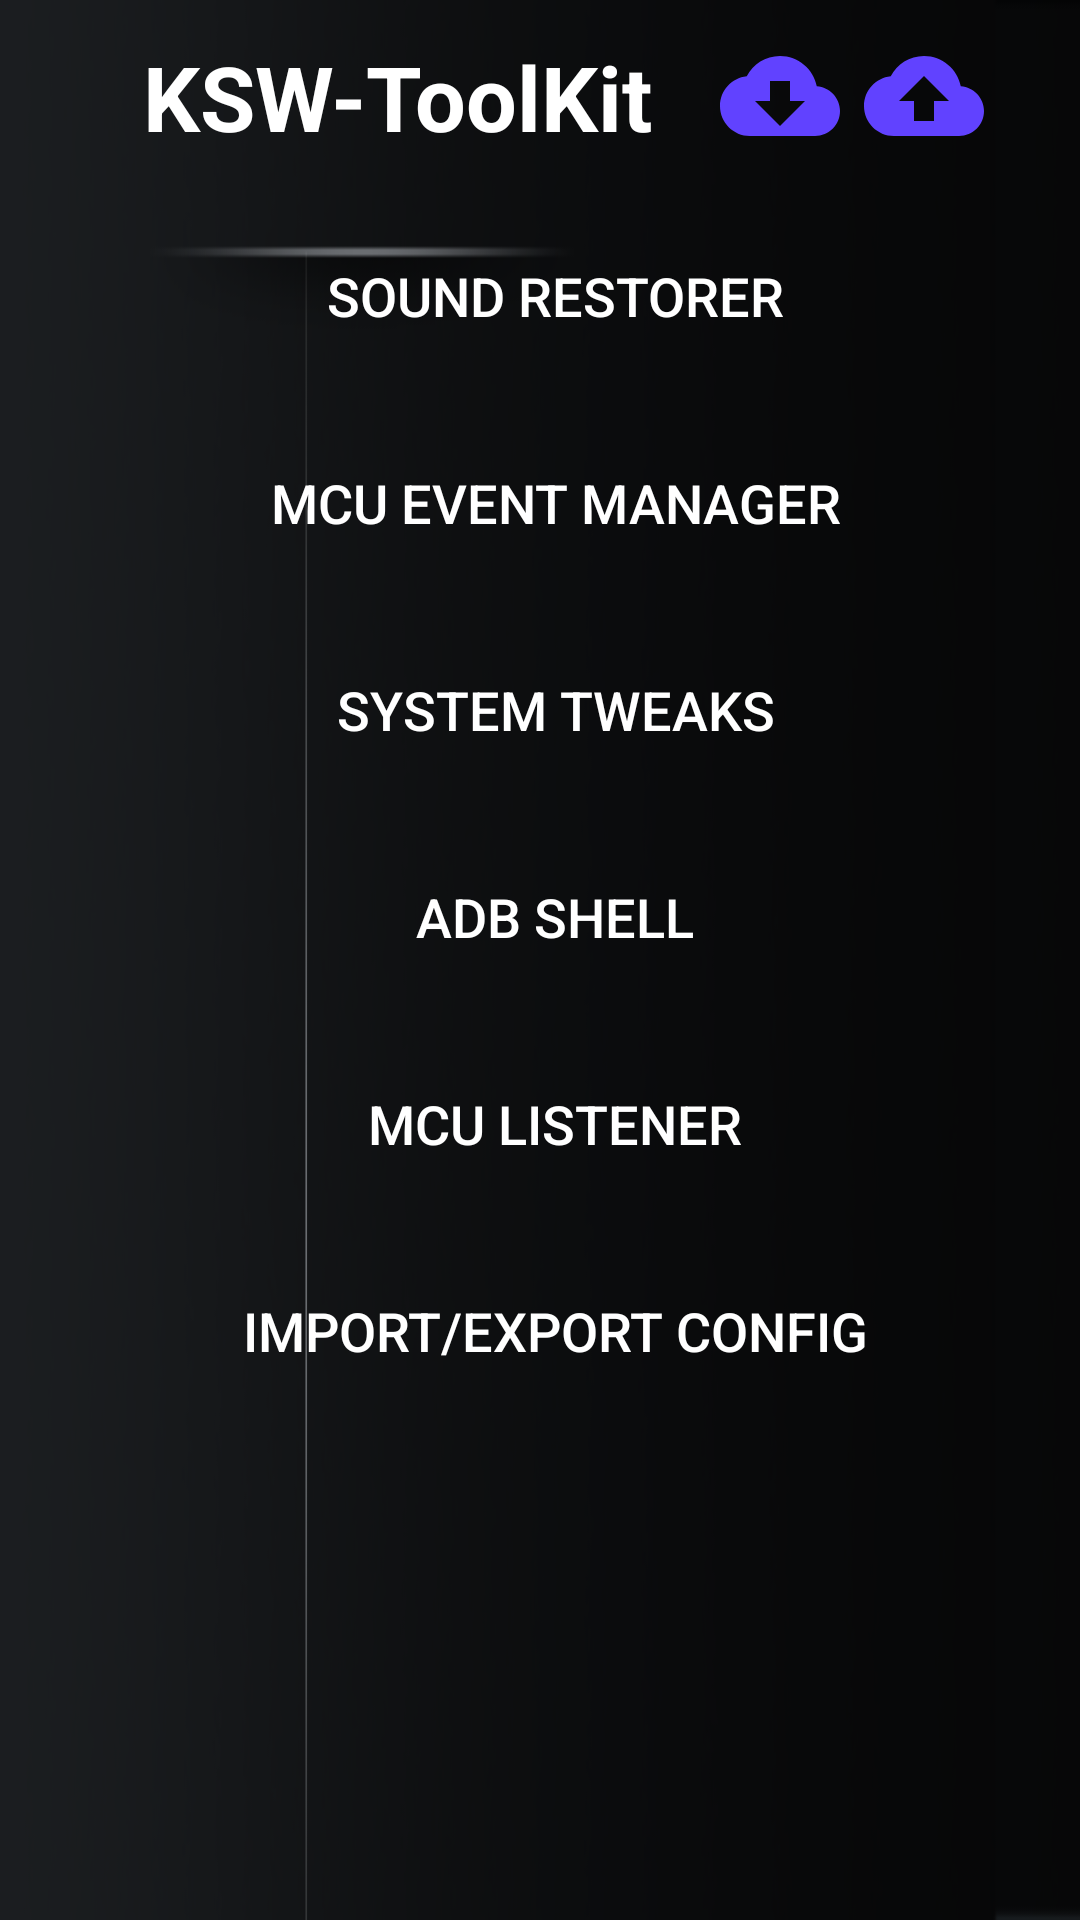

Icon bounding boxes for this 1080x1920 phone screenshot, format (x1, y1, x2, y2):
cloud download: (720, 56, 840, 136)
cloud upload: (864, 56, 984, 136)
